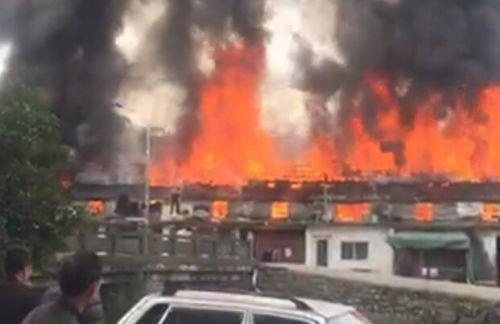fire: (274, 77, 500, 183), (87, 197, 106, 212)
